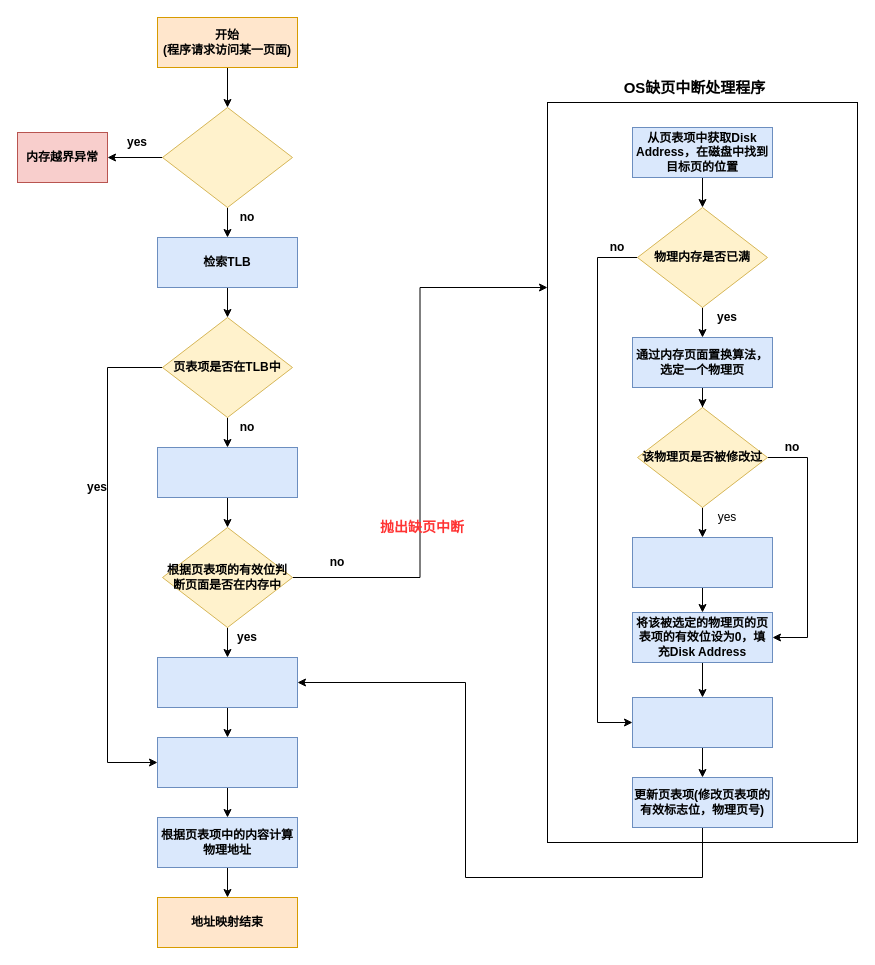
The diagram is 875 pixels wide and 965 high, and some of its shapes have lost their labels. Each missing label, with the centre of its shape:
取出页表项 修改其访问位和修改位: (227,762)
将数据从磁盘换入空闲的物理页: (702,722)
将物理页刷盘: (702,562)
将该页表项更新入TLB中: (227,682)
访问页表中的页表项: (227,472)
页号是否大于页表长度: (227,157)
